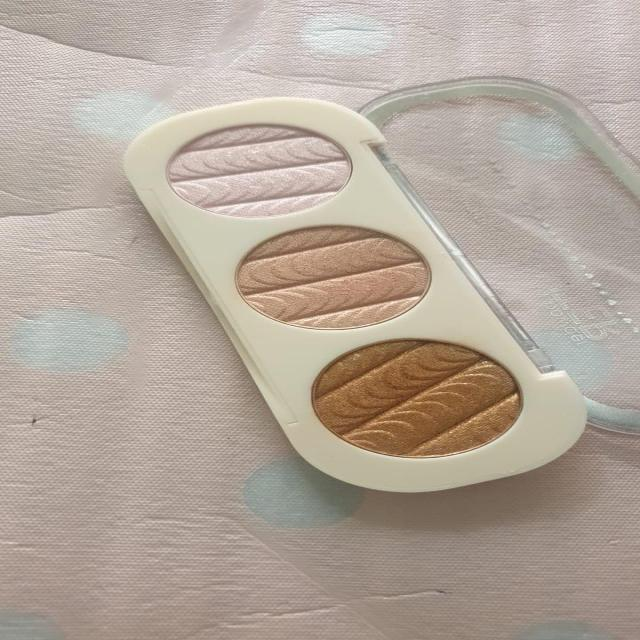bronzer: (291, 336, 540, 467)
highlighter: (220, 217, 443, 339), (131, 115, 372, 227)
